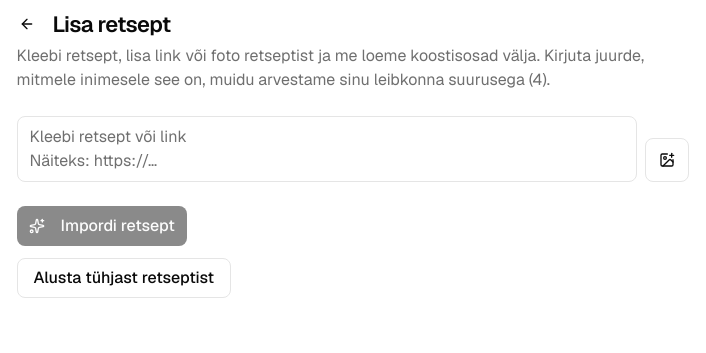
Test: RecipeImportClient error localization › keeps the plain rate-limit copy when the 429 has no resetAt
Type "https://example.com/recipe" into the text box. click: x=326, y=149
box: [16,116,636,182]
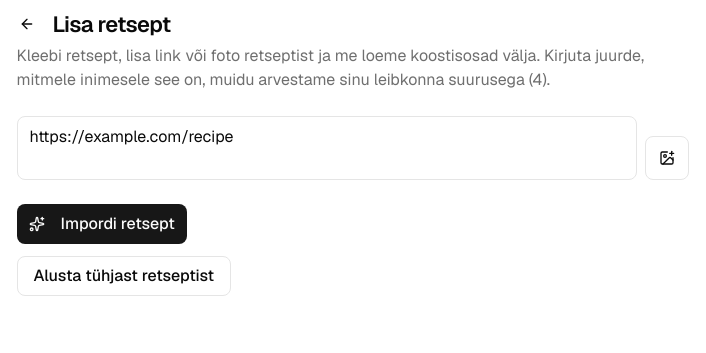
Click the button "Impordi retsept". click: x=102, y=224
box: [16,204,187,244]
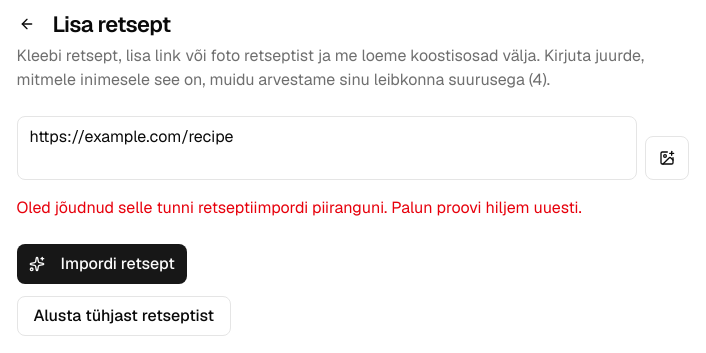
Expected: the text "Oled jõudnud selle tunni retseptiimpordi piiranguni. Palun proovi hiljem uuesti." is shown, [16,197,582,218]
